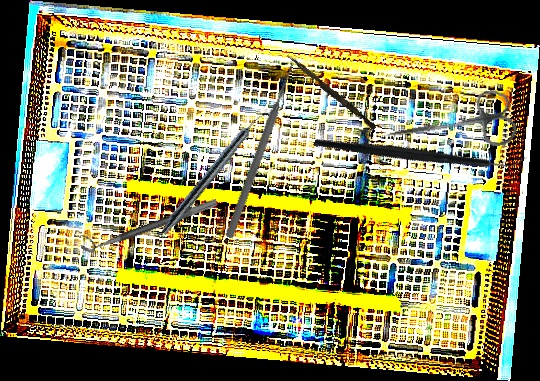Chopper: (313, 68, 527, 234)
Fixation Ring: (76, 187, 219, 256)
Handpiece: (159, 105, 270, 239)
Iris Scissors: (380, 87, 519, 165)
Pusher: (223, 60, 299, 240), (283, 53, 379, 131)
